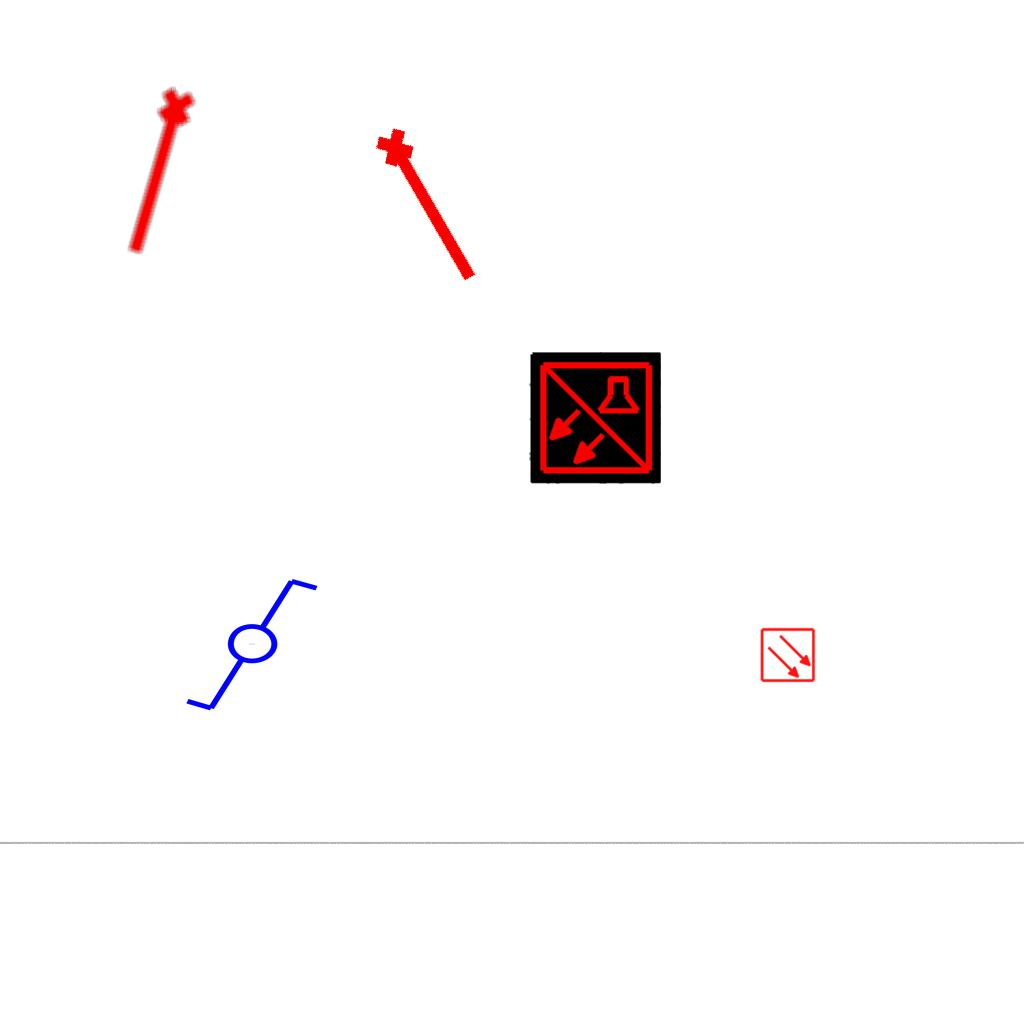ASR_Ansaugoeffnung: (367, 117, 495, 293), (113, 82, 207, 264)
OKW_Multisensormelder_(Kombination_optischer_Rauch-Kahlenmonoxid_Waerme-Melder): (529, 352, 661, 484)
RMO_Rauchmelder_optischer: (760, 627, 816, 683)
Wechselschalter: (182, 574, 339, 718)
